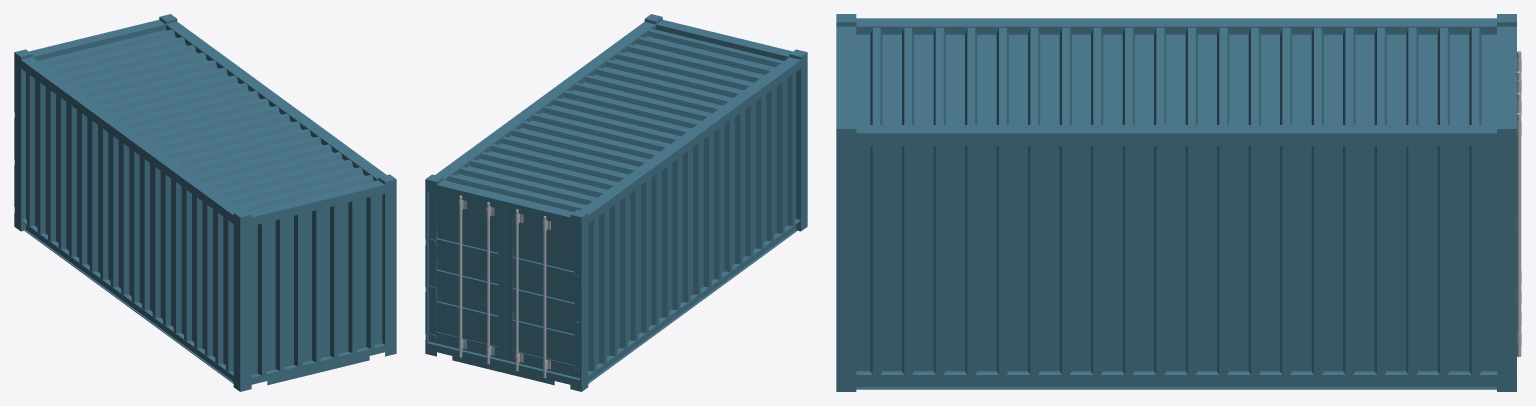
File: container_20ft_test.fbx
The picture shows the model from 3 angles, left to right: view 1: azimuth 30°, elevation 25°; view 2: azimuth 150°, elevation 25°; view 3: azimuth 270°, elevation 25°; orthographic projection. The views are drawn at different scales.
Visible parts, largest first — view 1: Container; view 2: Container, Door_L, Door_R; view 3: Container, Door_L.
Part boxes in pixels (x1,y1,x2,y2): Container: [14, 14, 396, 391]; Container: [425, 14, 807, 391]; Door_L: [425, 191, 505, 364]; Door_R: [505, 209, 583, 378]; Container: [836, 14, 1516, 391]; Door_L: [1511, 92, 1521, 370].
Bounding box in the file's own units: 2.44 × 2.6 × 6.14.
